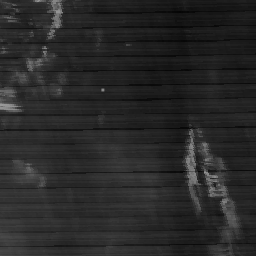Target: (99, 87, 106, 94)
